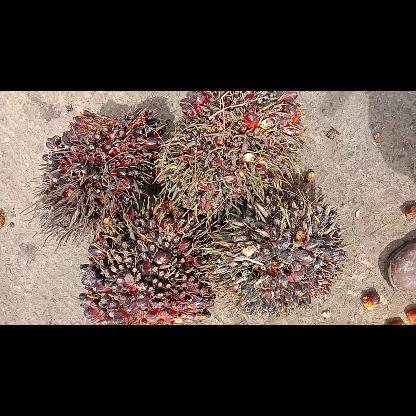TBS abnormal: (160, 90, 312, 208), (179, 205, 343, 313), (35, 107, 163, 229), (80, 218, 210, 324)
